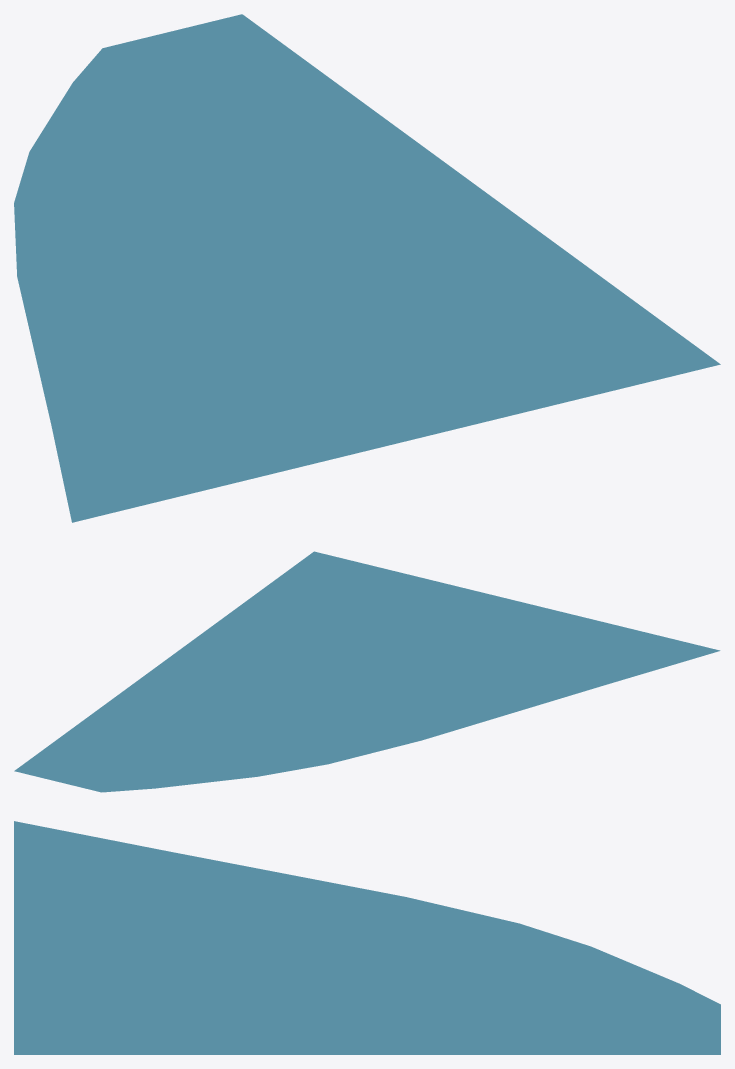
File: nature_14_-2.glb
3 views of the same model, one above another, from view 1: azimuth 30°, elevation 25°; view 2: azimuth 150°, elevation 25°; view 3: azimuth 270°, elevation 25° (orthographic). The views are drawn at different scales.
Parts seen in each view (by area): view 1: water; view 2: water; view 3: water.
Boxes of the visible parts, left/top/right/bottom form: water: left=14, top=14, right=720, bottom=522; water: left=14, top=551, right=720, bottom=792; water: left=14, top=821, right=720, bottom=1054.
Bounding box in the file's own units: 196 × 0 × 250.
